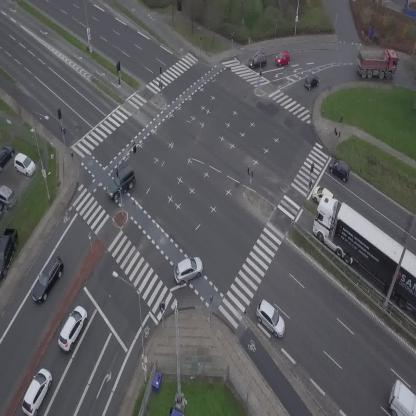car: (26, 254, 69, 306), (53, 303, 93, 353), (17, 366, 57, 416), (249, 298, 293, 340), (100, 164, 142, 202), (169, 252, 207, 287), (326, 155, 354, 182), (310, 182, 335, 204), (301, 72, 321, 91), (273, 49, 292, 67), (247, 52, 268, 68)
lorry: (358, 48, 398, 80), (388, 379, 416, 416)
